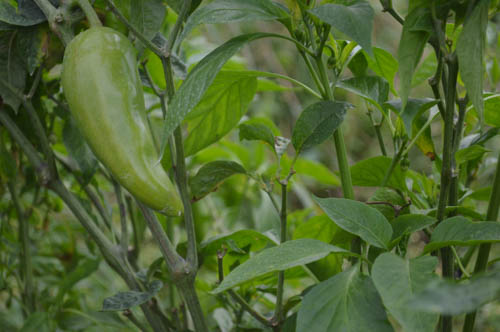ChiliPepper: (60, 28, 186, 220)
